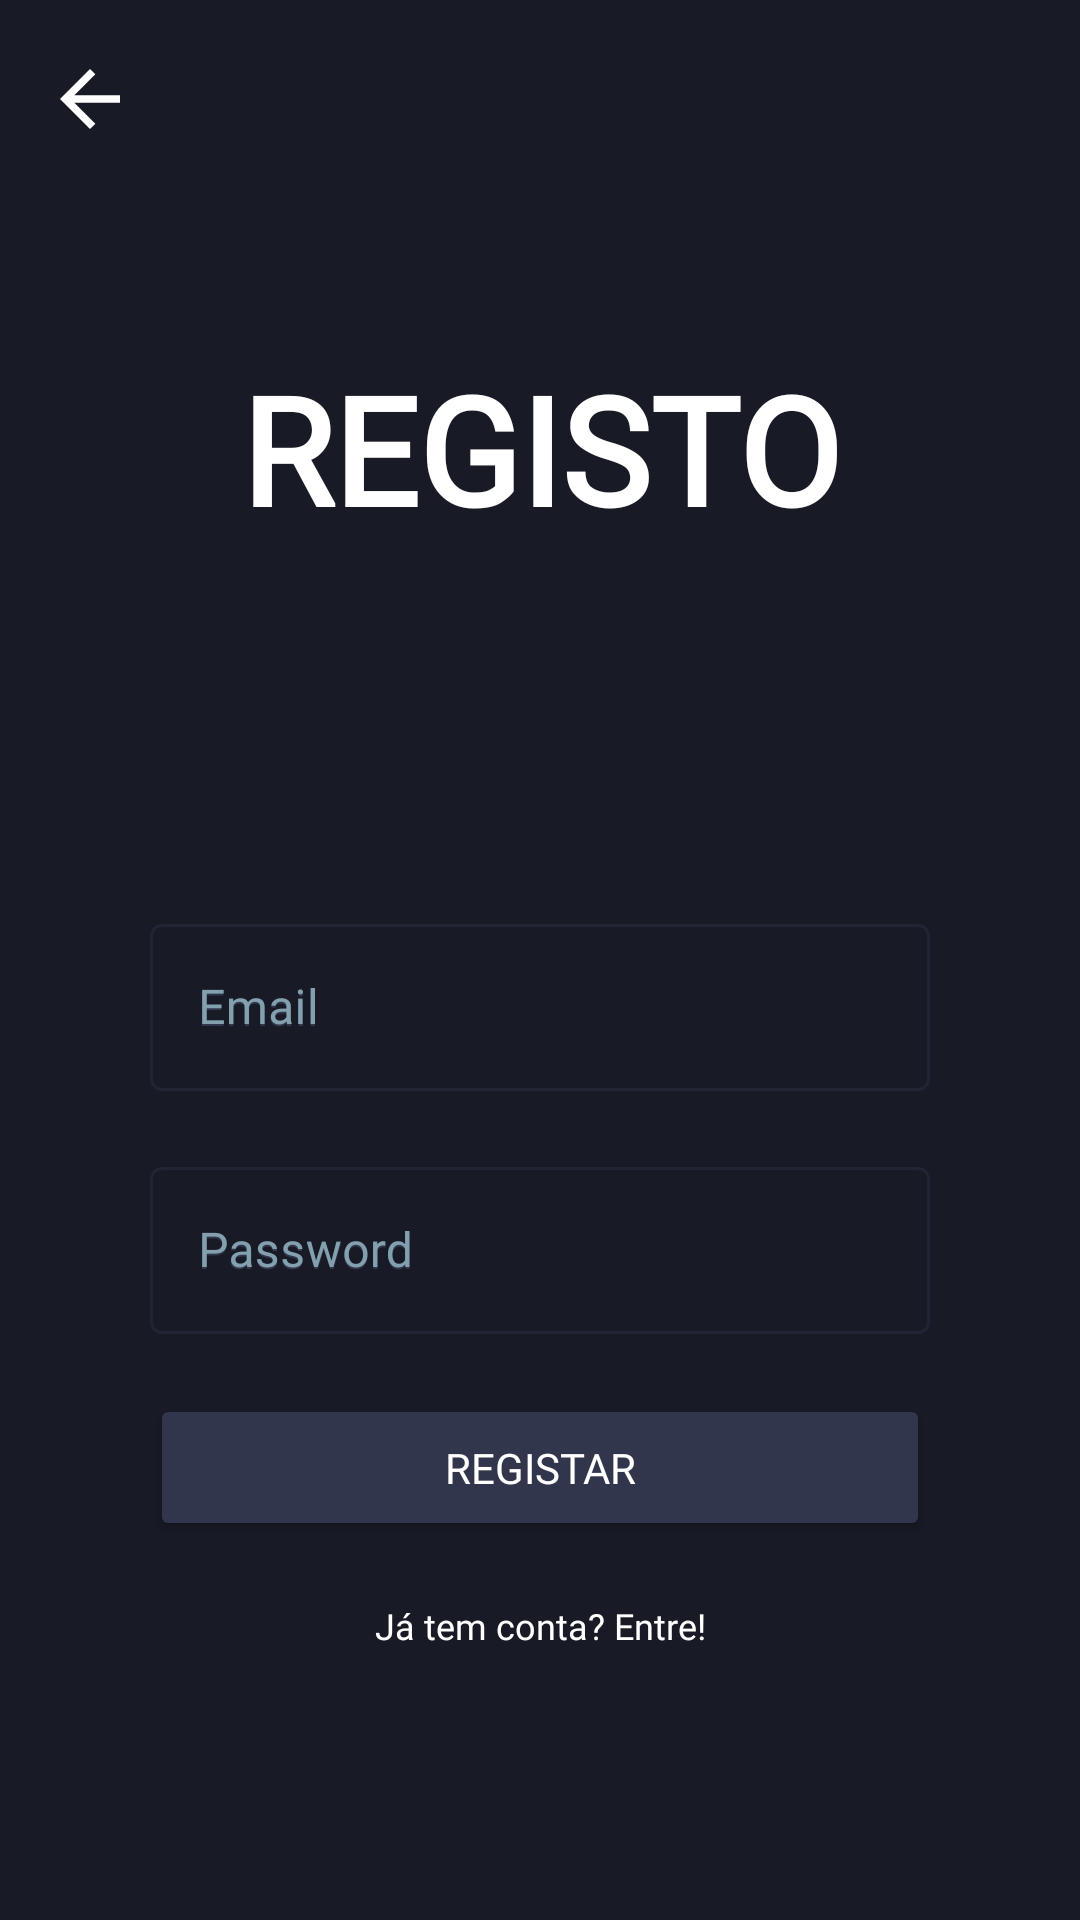

Point at icon controls on the screen. Image size 1080w x 1920h, points as [x,y].
seta branca: [90,99]
